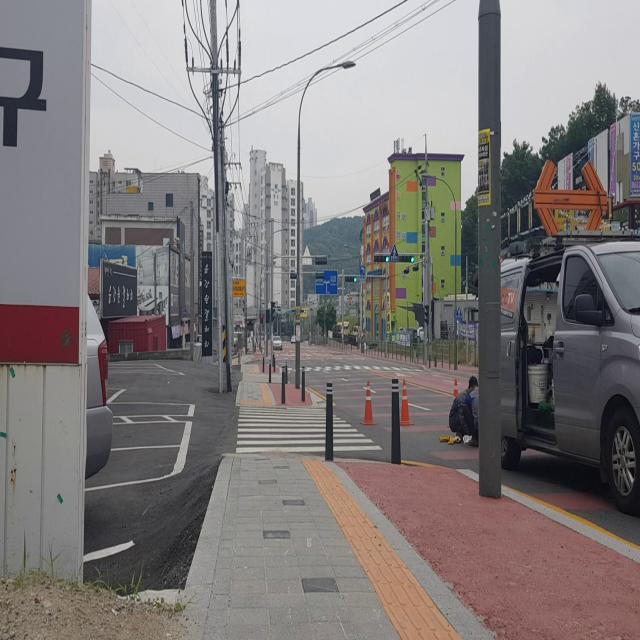횡단보도: (235, 406, 383, 454), (280, 362, 424, 375)
